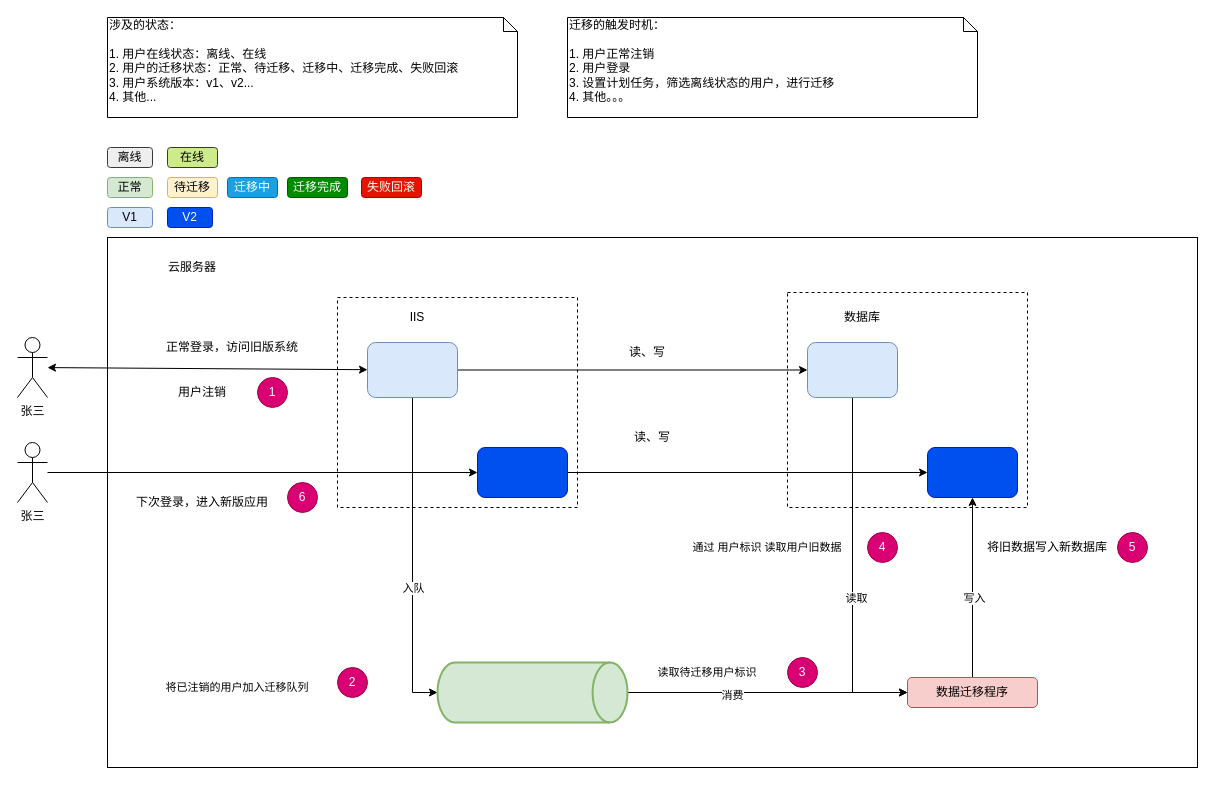
Some shapes in this 1215 by 785 pixel diagram are drawn without their labels. Here are the shapes that lost their labels. From the top down, the centre of each, then its label:
At point 412,370: "App V1".
At point 852,370: "DB V1".
At point 522,472: "App V2".
At point 972,472: "DB V2".
At point 532,692: "迁移队列".
